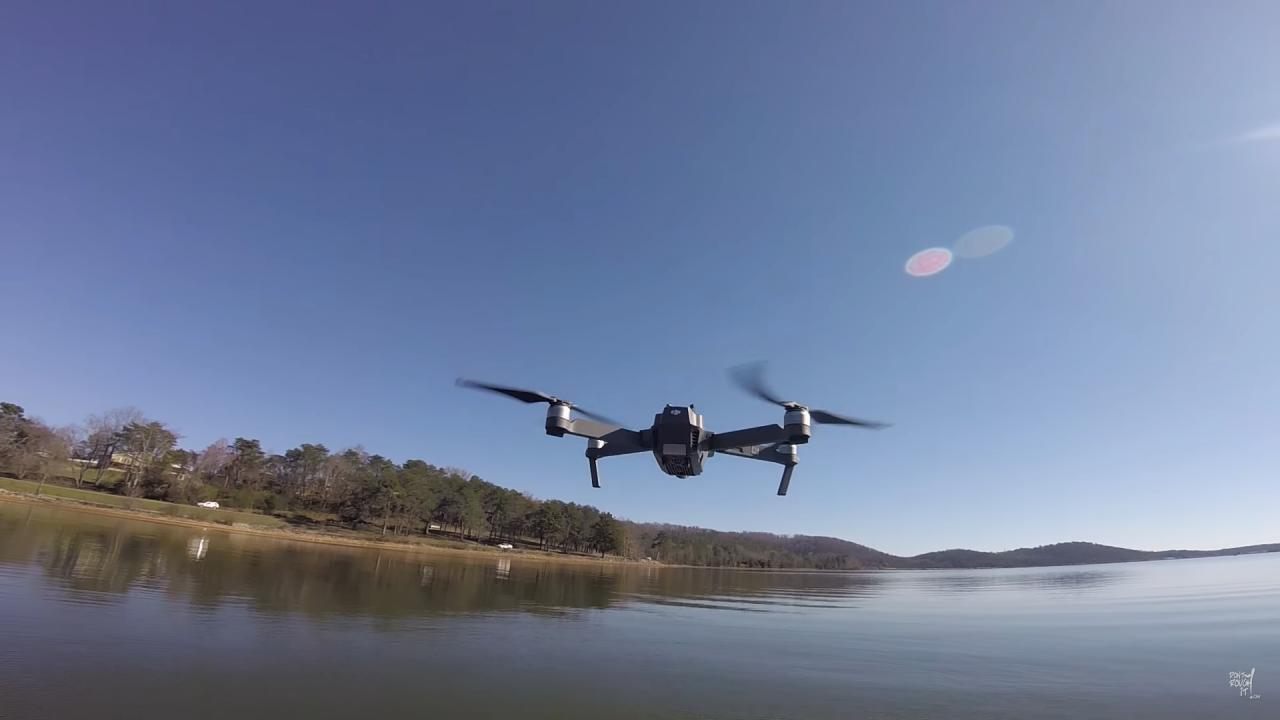Drone: (439, 346, 904, 506)
